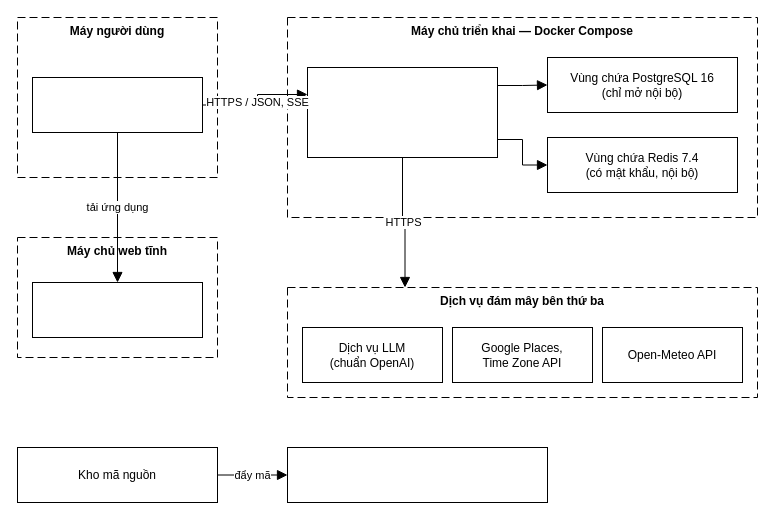
This 775x520 diagram has some shape labels left out. Here are the shapes that lost their labels. From the top down, the centre of each, then its label:
(117,104): Trình duyệt web
(402,112): Vùng chứa Backend Spring Boot, Java 21 cổng 8088
(117,310): Tệp tĩnh Frontend (dựng bằng Vite)
(417,474): GitHub Actions (biên dịch, kiểm thử tự động)
